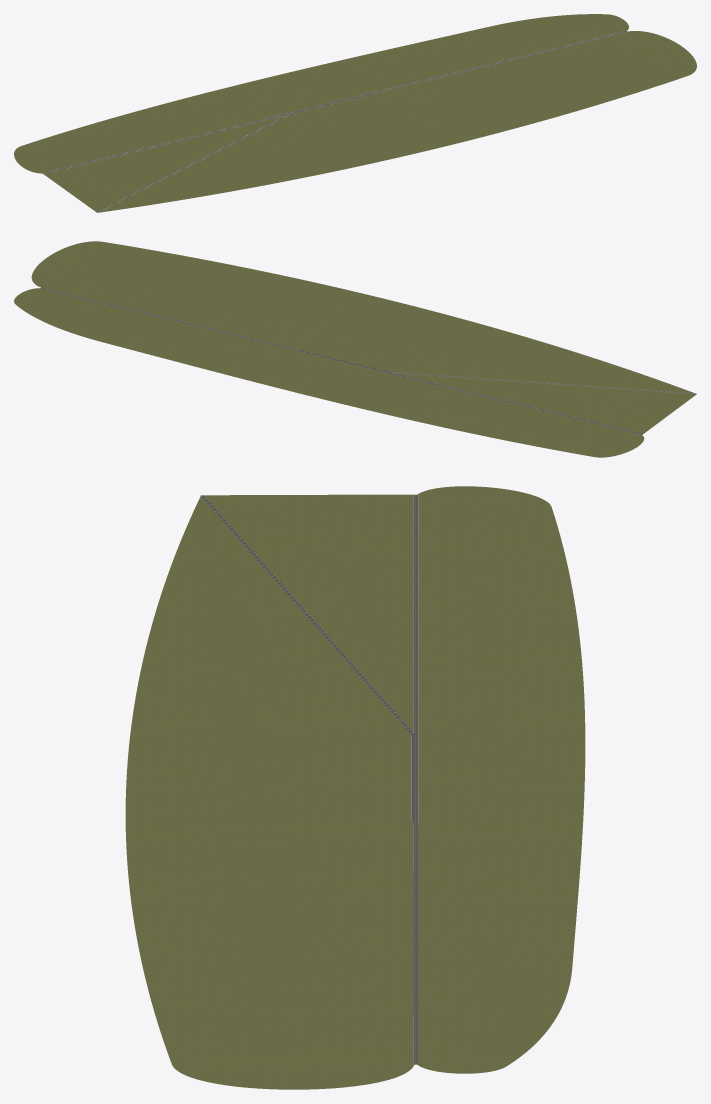
The model's file is IHP_map.fbx.
The picture shows the model from 3 angles, top to bottom: view 1: azimuth 30°, elevation 25°; view 2: azimuth 150°, elevation 25°; view 3: azimuth 270°, elevation 25°; orthographic projection. The views are drawn at different scales.
Parts seen in each view (by area): view 1: Terrain_Ground_Layer0Node, Road_Road_Layer0Node; view 2: Terrain_Ground_Layer0Node, Road_Road_Layer0Node; view 3: Terrain_Ground_Layer0Node, Road_Road_Layer0Node.
Boxes of the visible parts, box(x1,y1,x2,y2) form: Terrain_Ground_Layer0Node: box(14, 14, 696, 212); Road_Road_Layer0Node: box(43, 31, 626, 212); Terrain_Ground_Layer0Node: box(14, 241, 696, 457); Road_Road_Layer0Node: box(41, 287, 696, 434); Terrain_Ground_Layer0Node: box(125, 486, 585, 1089); Road_Road_Layer0Node: box(201, 494, 417, 1064).
Size of the model in its own units: 3007 by 968 by 0.81.
Materials: 4 (4 with a texture image).
